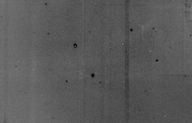Halpha: (114, 8, 175, 65)
